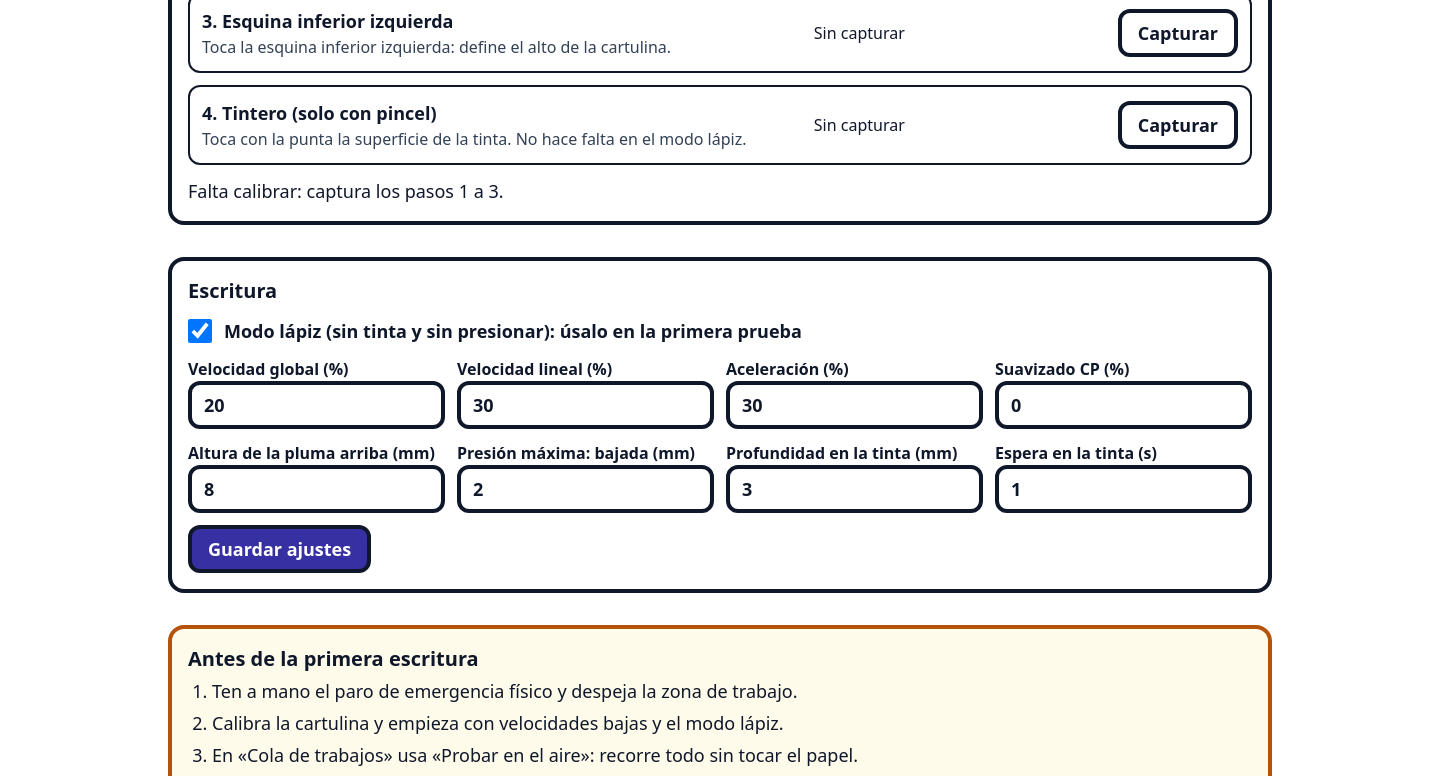
Scenario: RobotPage › guarda los ajustes de escritura y de conexión
(page scrolled)
Expected: the checkbox is checked, [188,319,212,343]
Replace the text in the number field labelled "Velocidad global (%)" with "35". click: (316, 405)
box: [188,381,445,429]
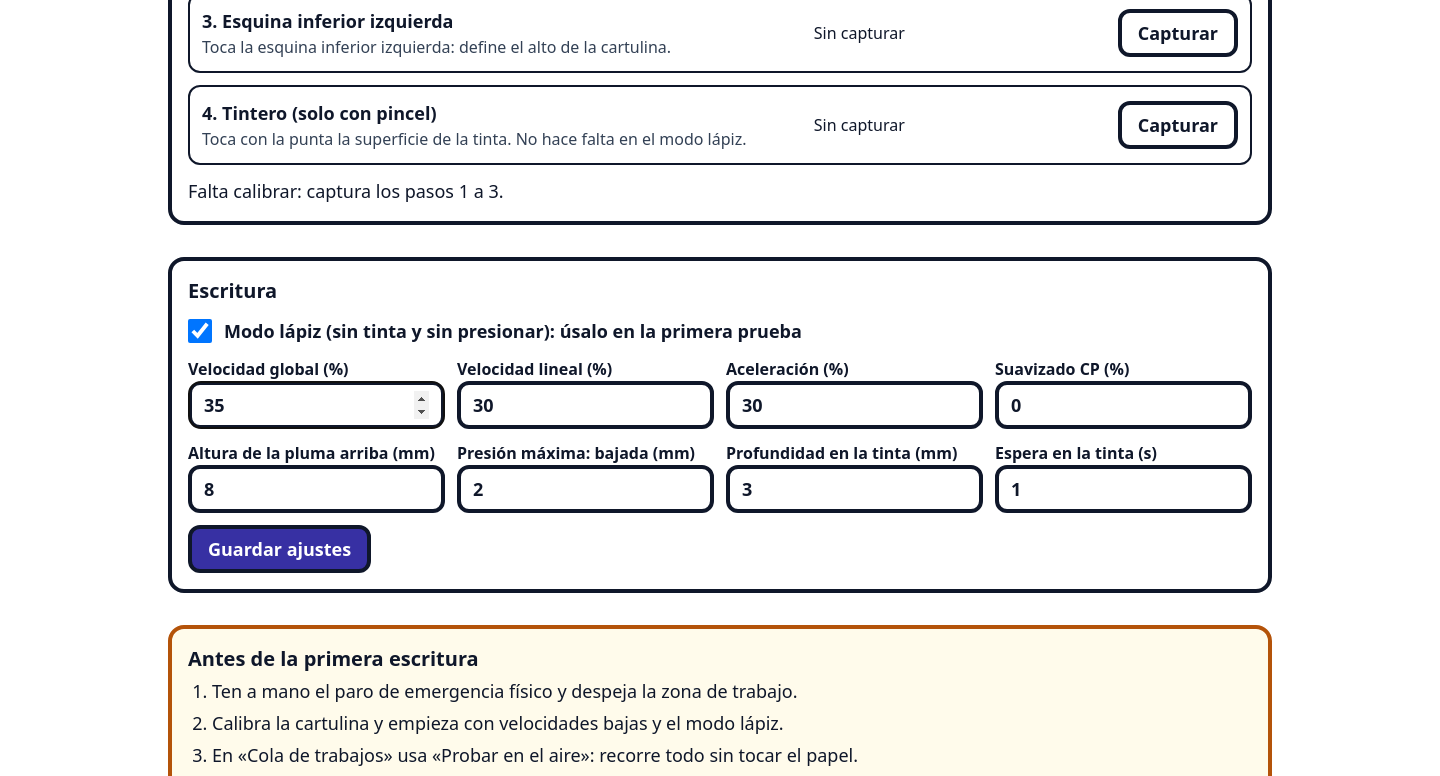
Click the checkbox. click: (200, 331)
box: [188,319,212,343]
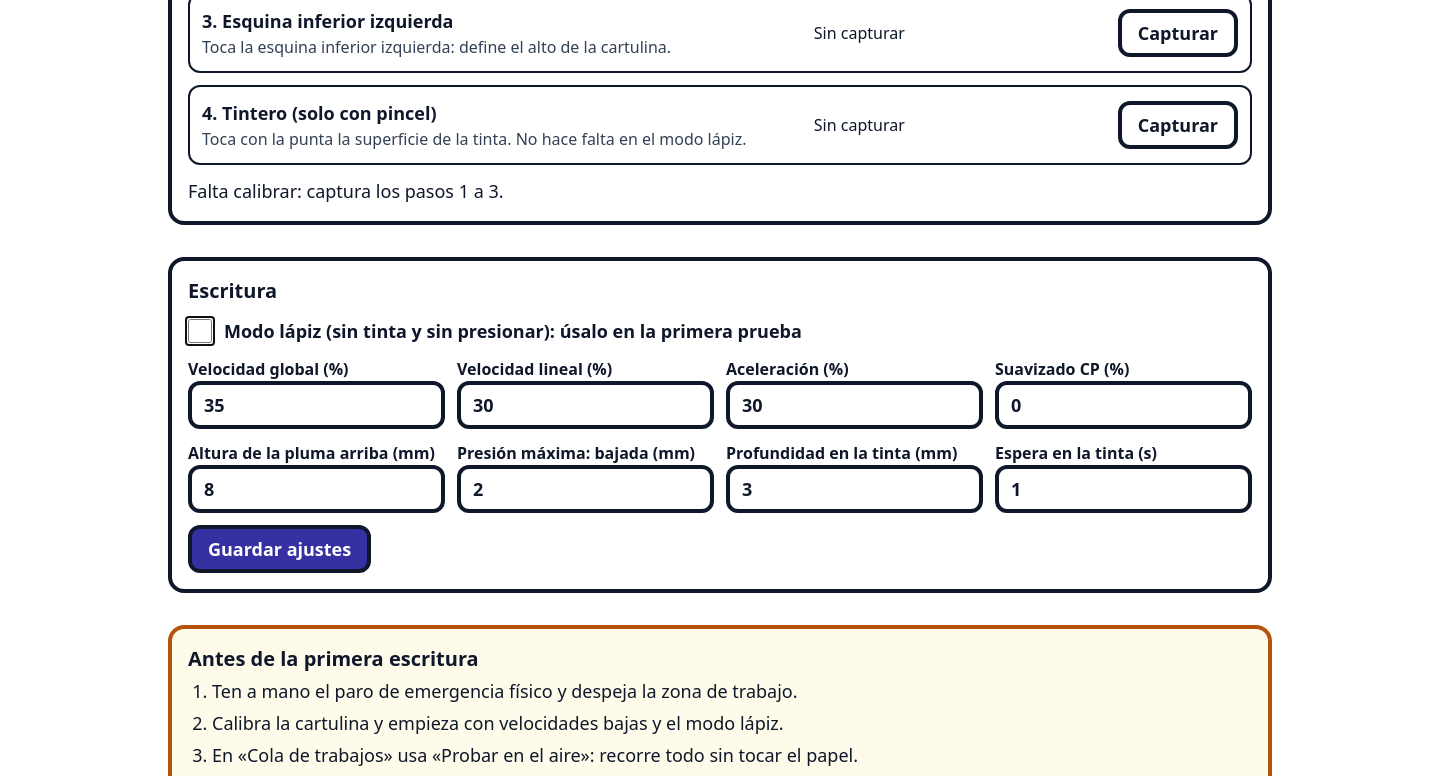
Click the button "Guardar ajustes". click: (280, 549)
box: [188,525,371,573]
(page scrolled)
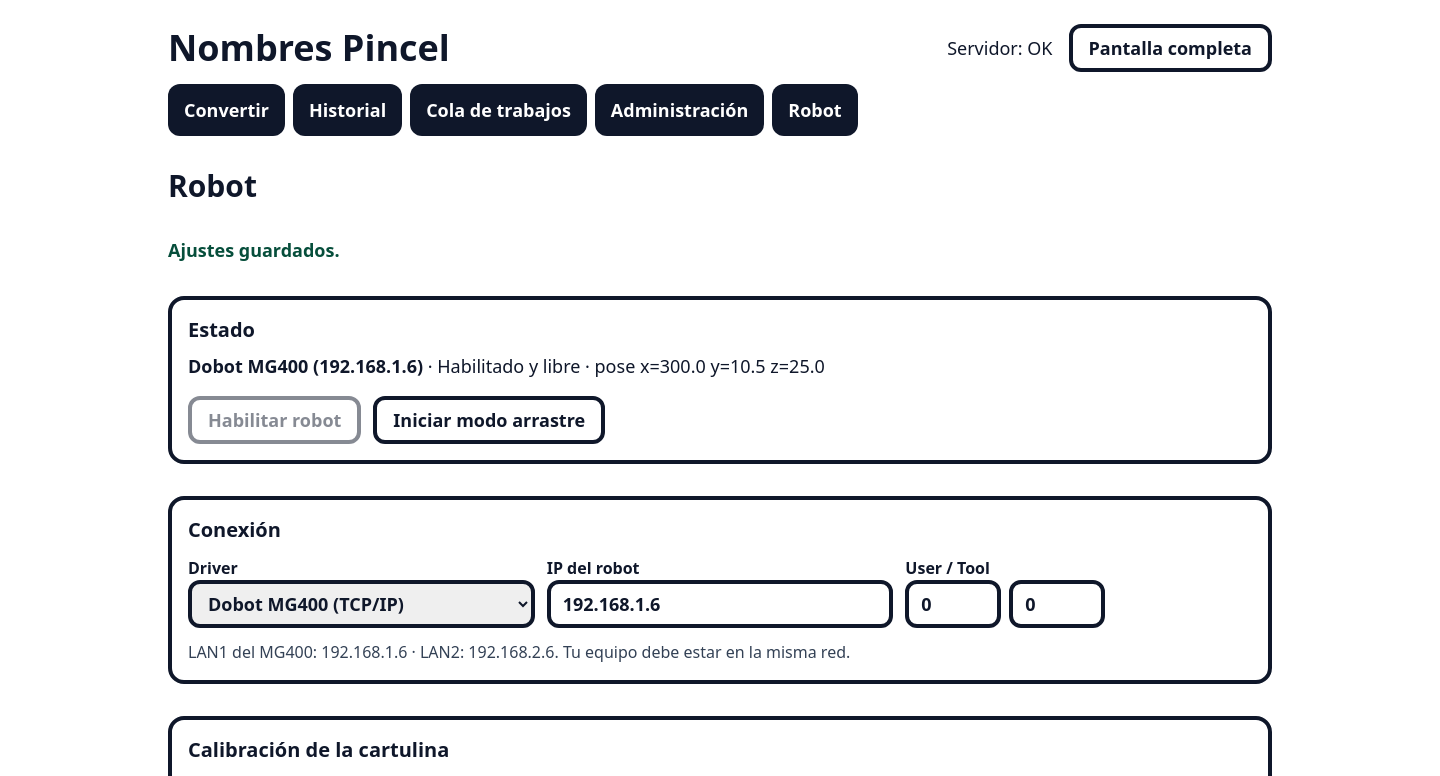
Now the message reads "Ajustes guardados.", box [168,238,340,262]
